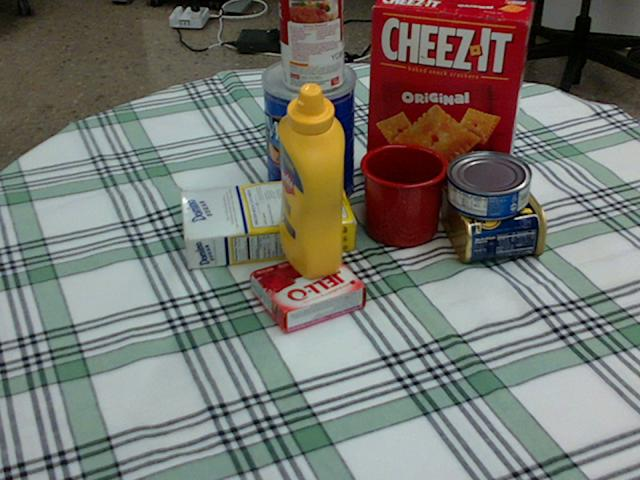cracker_box: (366, 0, 536, 201)
gelatin_box: (252, 249, 366, 333)
master_chef_can: (261, 57, 355, 209)
mug: (360, 142, 450, 246)
mustard_bottle: (277, 82, 344, 278)
potted_meat_can: (440, 169, 545, 258)
sugar_box: (177, 174, 355, 268)
tomato_soup_can: (279, 0, 345, 92)
tuna_fish_can: (446, 152, 531, 218)
